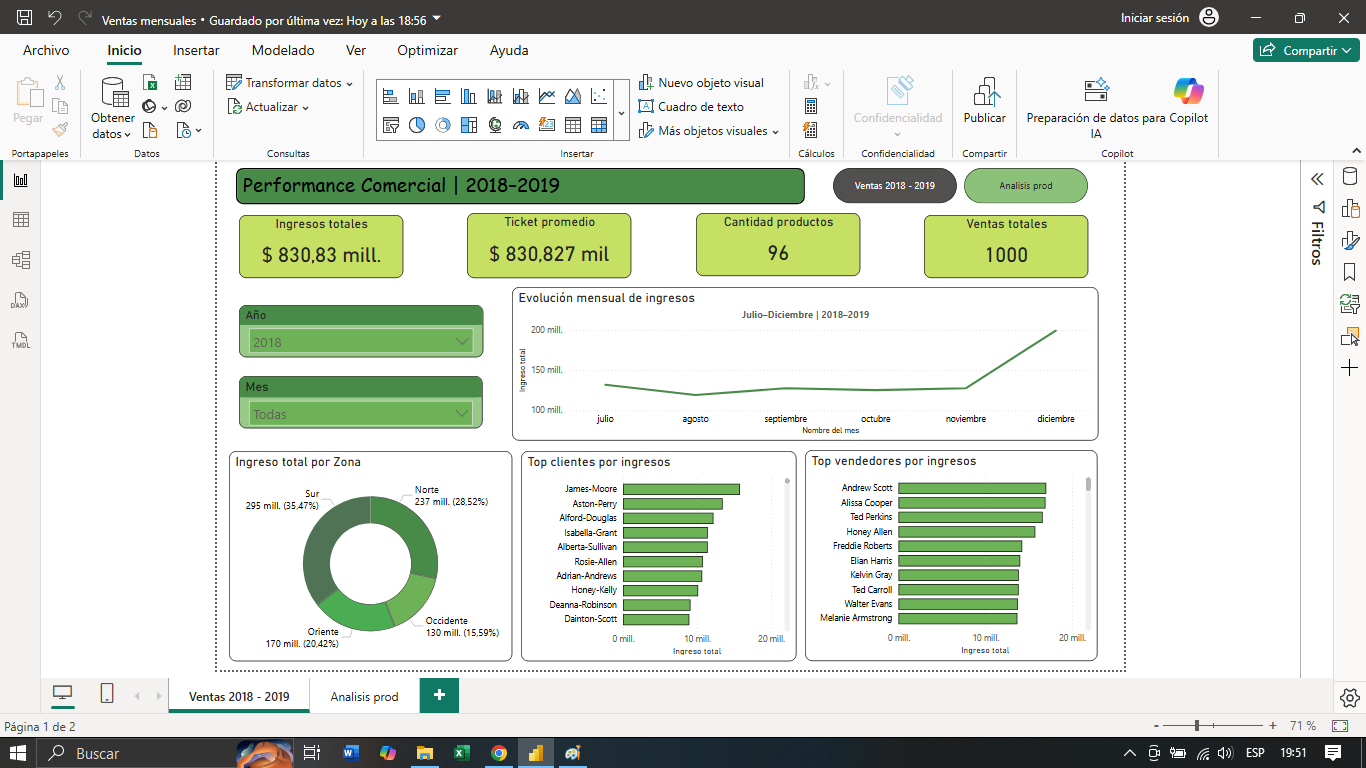

The dashboard page shown, as its layout file describes it:
{"tool":"powerbi","page":{"name":"Ventas 2018 - 2019","canvas":[1280,720],"ordinal":0},"visuals":[{"type":"card","title":"Ingresos totales","fields":{"Values":["Medidas.Ingreso total"]},"box":[31.1,77.6,231.5,88.9],"z":0},{"type":"clusteredBarChart","title":"Top vendedores por ingresos","fields":{"Y":["Medidas.Ingreso total"],"Category":["Vendedor.Nombre completo"]},"box":[830.6,410,413,297.6],"z":1000},{"type":"lineChart","title":"Evolución mensual de ingresos","fields":{"Category":["Calendario.Nombre del mes"],"Y":["Medidas.Ingreso total"]},"box":[416,179.2,827.5,217.1],"z":2000},{"type":"textbox","title":"Performance Comercial | 2018–2019","box":[26.8,11.3,803.3,50.8],"z":3000},{"type":"slicer","title":"Año","fields":{"Values":["Calendario.Año"]},"box":[30.9,205,344.7,74.4],"z":4000},{"type":"slicer","title":"Mes","fields":{"Values":["Calendario.Nombre del mes"]},"box":[31.4,304.3,344.3,74.3],"z":5000},{"type":"donutChart","fields":{"Y":["Medidas.Ingreso total"],"Series":["Vendedor.Zona"]},"box":[16.5,410.1,399.6,297.5],"z":6000},{"type":"card","title":"Ventas totales","fields":{"Values":["Medidas.Ventas totales"]},"box":[998.1,77.6,231.5,88.9],"z":7000},{"type":"card","title":"Cantidad productos","fields":{"Values":["Medidas.Cantidad productos"]},"box":[675.8,74.8,231.5,88.9],"z":9000},{"type":"clusteredBarChart","title":"Top clientes por ingresos","fields":{"Category":["Cliente.Nombre completo"],"Y":["Medidas.Ingreso total"]},"box":[428.8,410.1,389.1,297.5],"z":10000},{"type":"card","title":"Ticket promedio","fields":{"Values":["Medidas.Ticket promedio"]},"box":[353.4,74.8,231.5,91.8],"z":11000},{"type":"pageNavigator","box":[869.6,11.3,360,50.8],"z":12000}]}

Visuals, with their boxes on the page's 1280x720 design canvas (x1, y1, x2, y2). These are canvas units, not pixel positions in the 1366x768 screenshot, which may show the page scaled, cropped or inside an application window:
"Ingresos totales" card: l=31, t=78, r=263, b=166
"Top vendedores por ingresos" clusteredBarChart: l=831, t=410, r=1244, b=708
"Evolución mensual de ingresos" lineChart: l=416, t=179, r=1244, b=396
"Performance Comercial | 2018–2019" textbox: l=27, t=11, r=830, b=62
"Año" slicer: l=31, t=205, r=376, b=279
"Mes" slicer: l=31, t=304, r=376, b=379
donutChart - Medidas.Ingreso total x Vendedor.Zona: l=16, t=410, r=416, b=708
"Ventas totales" card: l=998, t=78, r=1230, b=166
"Cantidad productos" card: l=676, t=75, r=907, b=164
"Top clientes por ingresos" clusteredBarChart: l=429, t=410, r=818, b=708
"Ticket promedio" card: l=353, t=75, r=585, b=167
pageNavigator: l=870, t=11, r=1230, b=62
